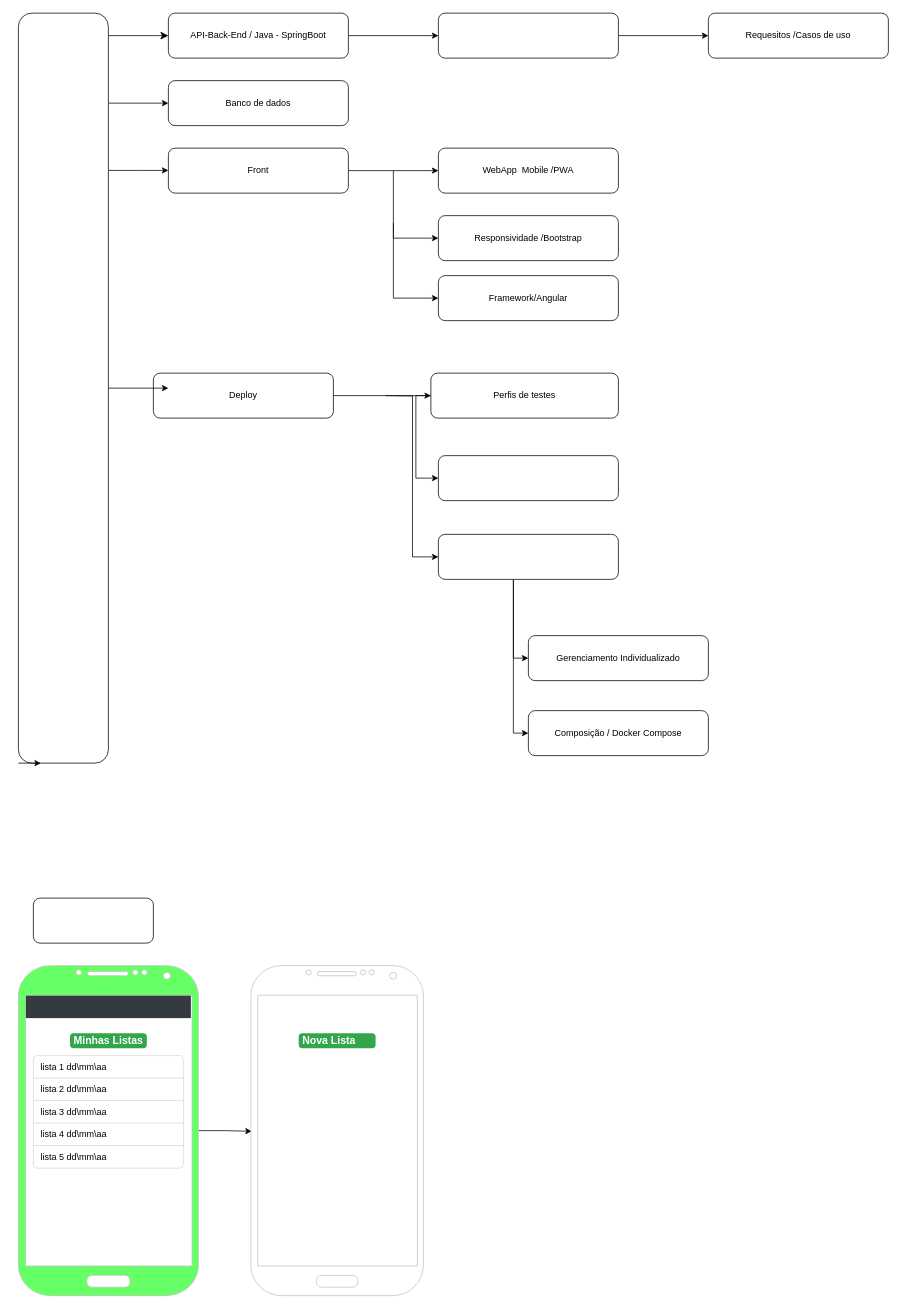
Image size: 902x1309. Some labels were removed from this diagram. Each missing label, with the centre of its shape:
Conteneres: point 528,556
Deploy Automatizado (CI/CD) com ações GitHub: point 528,478
GIT: point 63,387
Layout-Navegação: point 93,920
Lista dos Eventos: point 108,1006
Testes automatizados: point 528,35
